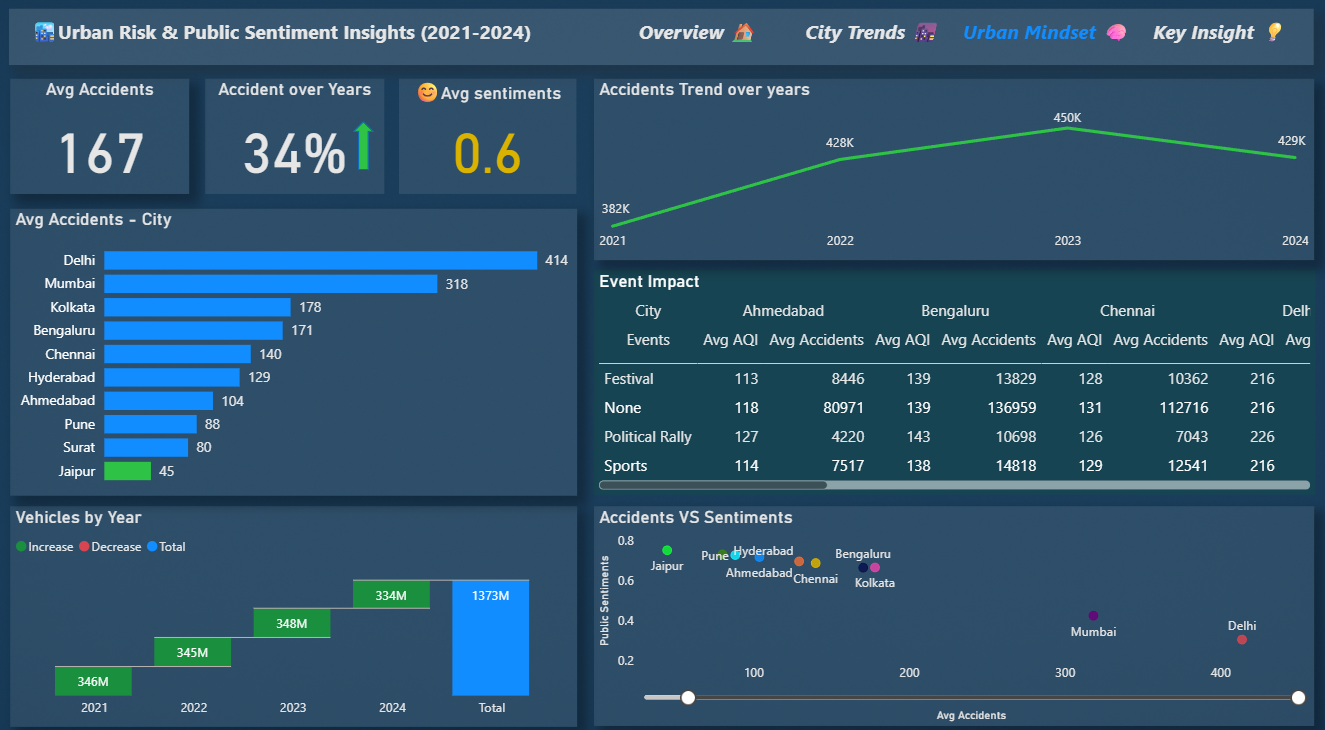

The page's visual inventory and layout, read from the dashboard file:
{"tool":"powerbi","page":{"name":"Urban Mindset 🧠","canvas":[1280,720],"ordinal":2},"visuals":[{"type":"shape","box":[9.9,13.6,1259.3,54.3],"z":0},{"type":"scatterChart","title":"Accidents VS Sentiments","fields":{"Category":["Data.City"],"X":["Avg(Data.Accident_reported)"],"Y":["Avg(Data.Public_Sentiment)"]},"box":[574.3,493.4,694.9,212.3],"z":1000},{"type":"card","title":"Avg Accidents","fields":{"Values":["Avg(Data.Accident_reported)"]},"box":[11.1,80.2,172.8,111.1],"z":2000},{"type":"card","title":"Accident over Years","fields":{"Values":["Data.YOY Accident Change"]},"box":[198.8,80.2,172.8,111.1],"z":3000},{"type":"card","title":"😊Avg sentiments","fields":{"Values":["Avg(Data.Public_Sentiment)"]},"box":[393.8,80.2,155.6,111.1],"z":4000},{"type":"pivotTable","title":"Event Impact","fields":{"Rows":["Data.Event_Ongoing"],"Columns":["Data.City"],"Values":["Data.Avg AQI","Sum(Data.Accidents)"]},"box":[574.3,265.4,696.1,217.2],"z":5000},{"type":"lineChart","title":"Accidents Trend over years","fields":{"Category":["Date Table.Year"],"Y":["Sum(Data.Accidents)"]},"box":[574.3,80.8,694.9,174.9],"z":6000},{"type":"waterfallChart","title":" Vehicles by Year","fields":{"Y":["Sum(Data.Vehicle_count)"],"Category":["Date Table.Year"]},"box":[11,493,547,213],"z":7000},{"type":"pageNavigator","box":[589.9,13.3,674.4,44.6],"z":8000},{"type":"textbox","box":[11.1,0,546.9,97.5],"z":9000},{"type":"clusteredBarChart","title":"Avg Accidents - City","fields":{"Y":["Avg(Data.Accidents)"],"Category":["Data.City"]},"box":[11.1,206.2,546.9,276.5],"z":10000},{"type":"shape","box":[341.4,121.9,20.5,47.1],"z":11000}]}

Visuals, with their boxes in screenshot pixels (x1, y1, x2, y2), scaled from the page's 1280x720 canvas onto the 1325x730 screenshot:
shape: 10,14,1314,69
"Accidents VS Sentiments" scatterChart: 594,500,1314,716
"Avg Accidents" card: 11,81,190,194
"Accident over Years" card: 206,81,385,194
"😊Avg sentiments" card: 408,81,569,194
"Event Impact" pivotTable: 594,269,1315,489
"Accidents Trend over years" lineChart: 594,82,1314,259
" Vehicles by Year" waterfallChart: 11,500,578,716
pageNavigator: 611,13,1309,59
textbox: 11,0,578,99
"Avg Accidents - City" clusteredBarChart: 11,209,578,489
shape: 353,124,375,171
